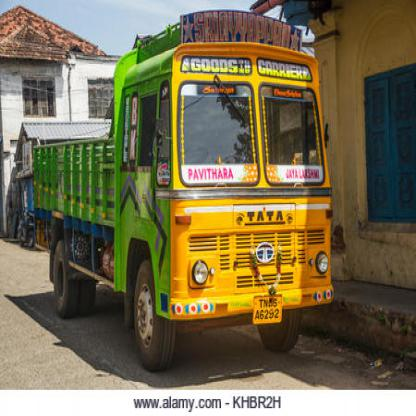truck: (31, 9, 332, 372)
